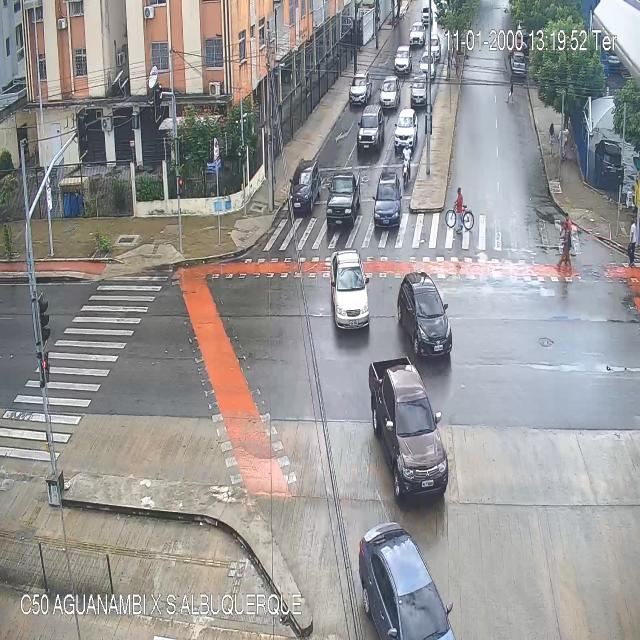Car: (368, 356, 446, 504), (359, 524, 452, 640), (398, 274, 453, 357), (330, 248, 369, 329), (326, 173, 359, 226), (289, 159, 320, 210), (373, 174, 400, 228), (356, 103, 384, 151), (394, 108, 418, 147), (349, 70, 371, 102), (379, 75, 400, 105), (411, 75, 427, 107), (394, 43, 410, 72), (419, 51, 435, 79), (409, 22, 425, 46), (429, 34, 441, 60), (512, 52, 526, 74), (421, 8, 431, 24)
Motorcycle: (402, 143, 411, 188)
